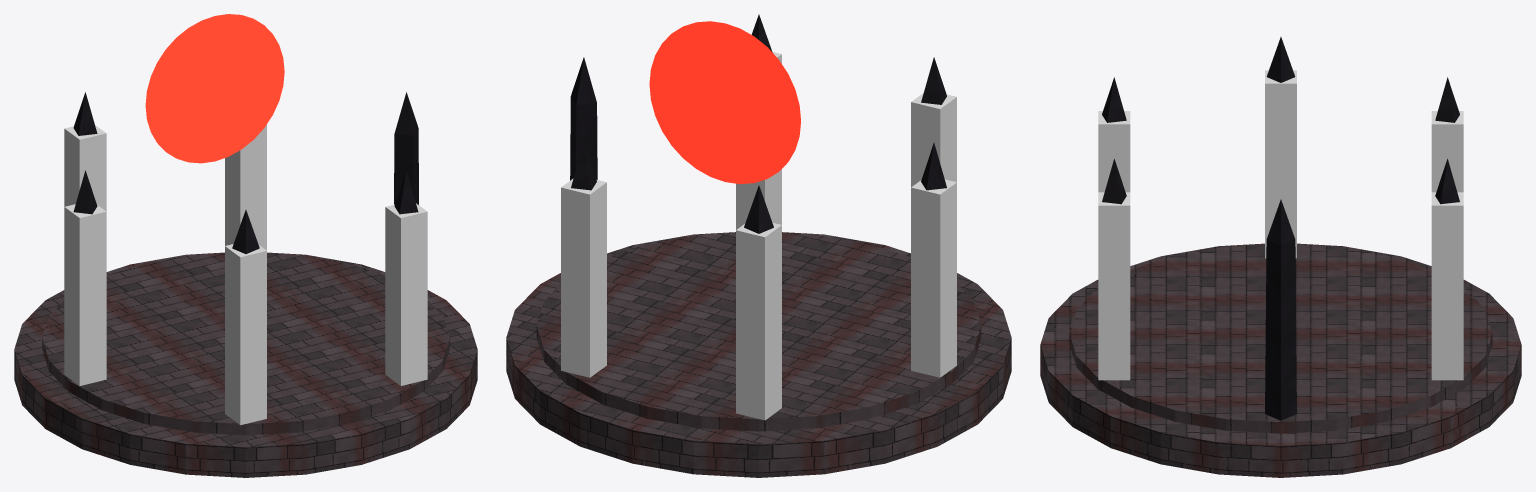
Rendered from blood_moon_shrine.glb.
3 renders of one model, left to right at view 1: azimuth 30°, elevation 25°; view 2: azimuth 150°, elevation 25°; view 3: azimuth 270°, elevation 25°, orthographic. The views are drawn at different scales.
Parts seen in each view (by area): view 1: Dais, MoonDisc, Pillar-convcolonly.005, Pillar-convcolonly.003, Pillar-convcolonly.004, Pillars, Pillar-convcolonly.001, Pillar-convcolonly.002; view 2: Dais, MoonDisc, Pillar-convcolonly.001, Pillar-convcolonly.003, Pillar-convcolonly.002, Pillars, Pillar-convcolonly.004, Pillar-convcolonly.005; view 3: Dais, Pillars, Pillar-convcolonly.001, Pillar-convcolonly.005, Pillar-convcolonly.003, Pillar-convcolonly.002, Pillar-convcolonly.004.
Boxes of the visible parts, x1=… form: Dais: x1=14, y1=252, x2=477, y2=477; MoonDisc: x1=145, y1=14, x2=284, y2=163; Pillar-convcolonly.005: x1=385, y1=203, x2=427, y2=385; Pillar-convcolonly.003: x1=64, y1=204, x2=106, y2=385; Pillar-convcolonly.004: x1=225, y1=244, x2=266, y2=425; Pillars: x1=73, y1=92, x2=418, y2=253; Pillar-convcolonly.001: x1=225, y1=124, x2=266, y2=250; Pillar-convcolonly.002: x1=64, y1=125, x2=106, y2=211; Dais: x1=506, y1=232, x2=1011, y2=477; MoonDisc: x1=649, y1=21, x2=800, y2=184; Pillar-convcolonly.001: x1=561, y1=178, x2=606, y2=377; Pillar-convcolonly.003: x1=911, y1=179, x2=956, y2=377; Pillar-convcolonly.002: x1=736, y1=222, x2=781, y2=420; Pillars: x1=570, y1=14, x2=946, y2=233; Pillar-convcolonly.004: x1=911, y1=93, x2=956, y2=187; Pillar-convcolonly.005: x1=736, y1=52, x2=781, y2=229; Dais: x1=1040, y1=243, x2=1521, y2=477; Pillars: x1=1102, y1=37, x2=1459, y2=420; Pillar-convcolonly.001: x1=1431, y1=192, x2=1463, y2=380; Pillar-convcolonly.005: x1=1098, y1=192, x2=1130, y2=380; Pillar-convcolonly.003: x1=1265, y1=70, x2=1296, y2=258; Pillar-convcolonly.002: x1=1431, y1=111, x2=1463, y2=192; Pillar-convcolonly.004: x1=1098, y1=111, x2=1130, y2=192.
Size of what is drawn, in the model's own units: 15 by 12.2 by 15.
Materials: 4 (3 with a texture image).
